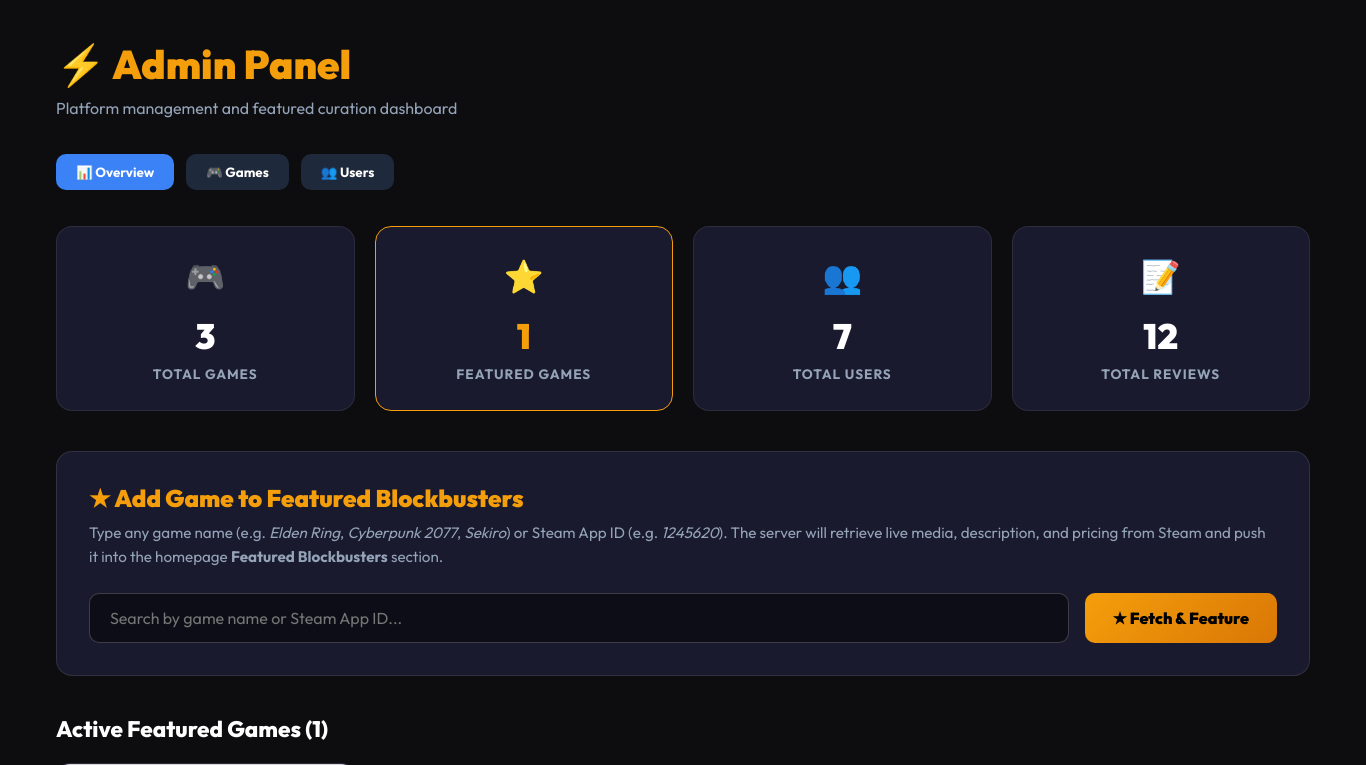
Test case: AdminPanel › feature-steam-game form (handleFeatureSubmit) › falls back to a generic success message when the server sends none
The width and height of the screenshot is (1366, 765).
Type "Hades" into the field labelled "Search by game name or Steam App ID..." at [579, 618], box [89,593,1069,643]
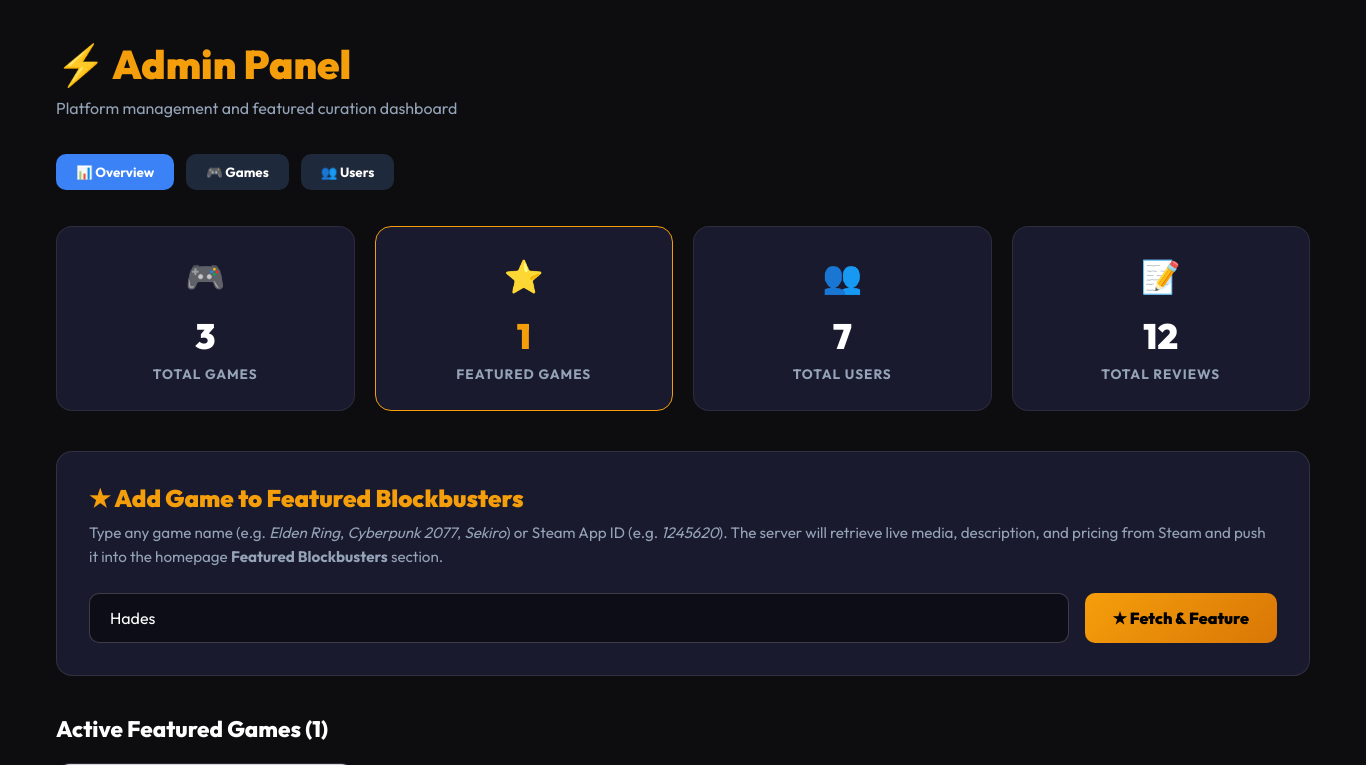
Click the button "★ Fetch & Feature" at [1181, 618], box [1085,593,1277,643]
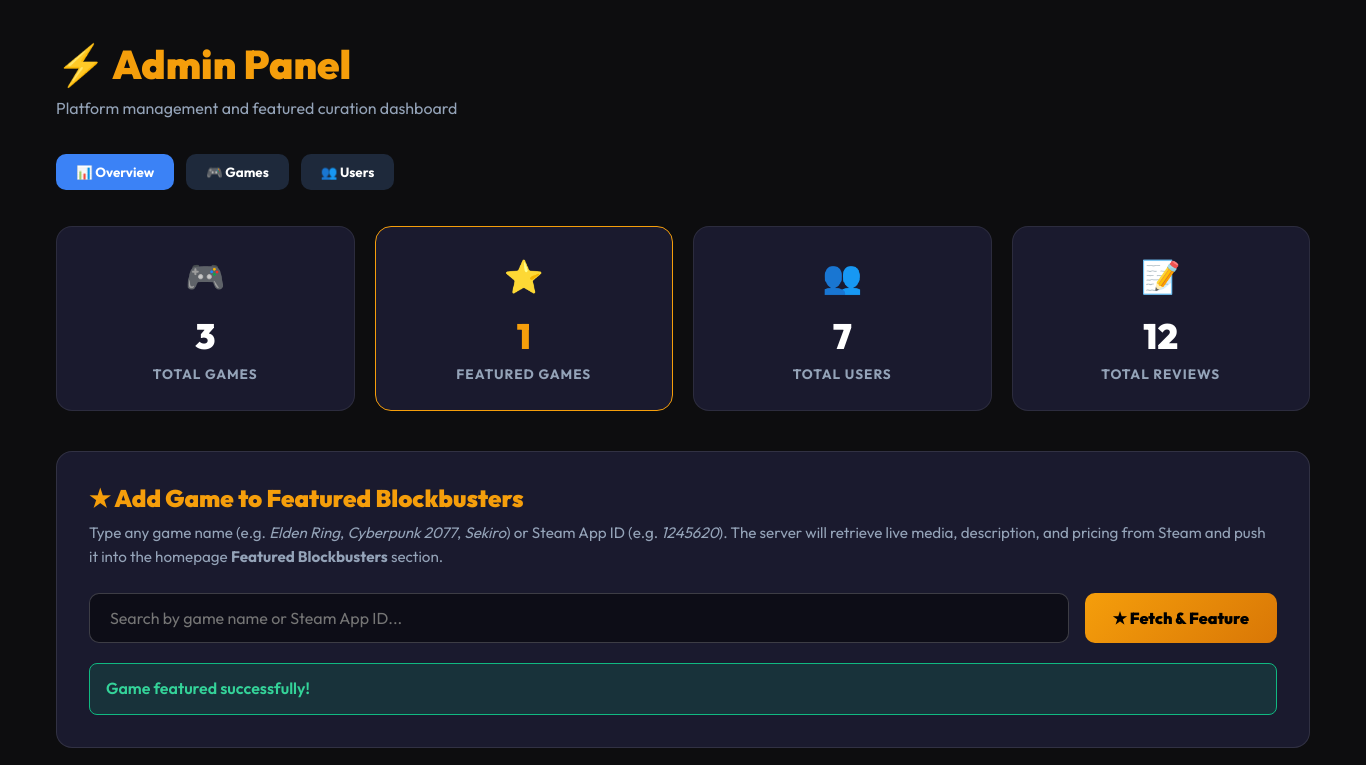
Check: the text "Game featured successfully!" is shown, box [89,663,1277,715]
